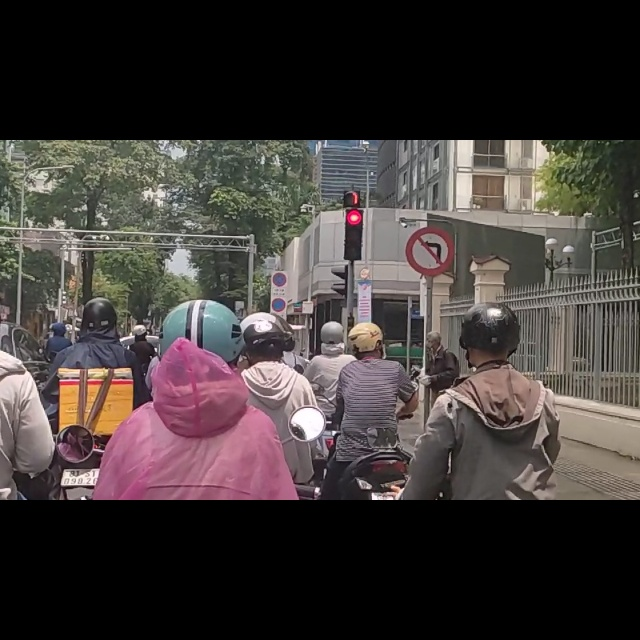bien_cam: (405, 151, 454, 243), (271, 235, 287, 263), (271, 280, 286, 307)
